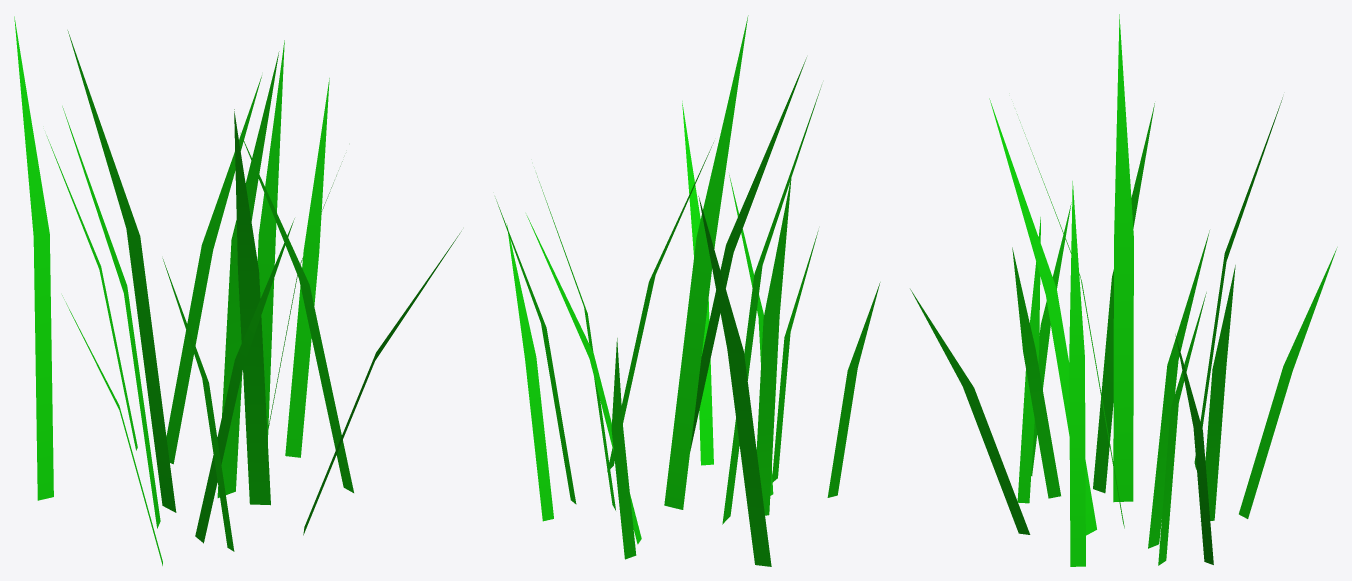
File: Grass_001.fbx
3 renders of one model, left to right at view 1: azimuth 30°, elevation 25°; view 2: azimuth 150°, elevation 25°; view 3: azimuth 270°, elevation 25°, orthographic. The views are drawn at different scales.
Parts seen in each view (by area): view 1: Grass.001; view 2: Grass.001; view 3: Grass.001.
Part boxes in pixels (x1,y1,x2,y2): Grass.001: (14, 16, 461, 565); Grass.001: (495, 15, 880, 566); Grass.001: (910, 14, 1337, 566).
Size of the model in its own units: 146 by 201 by 177.
